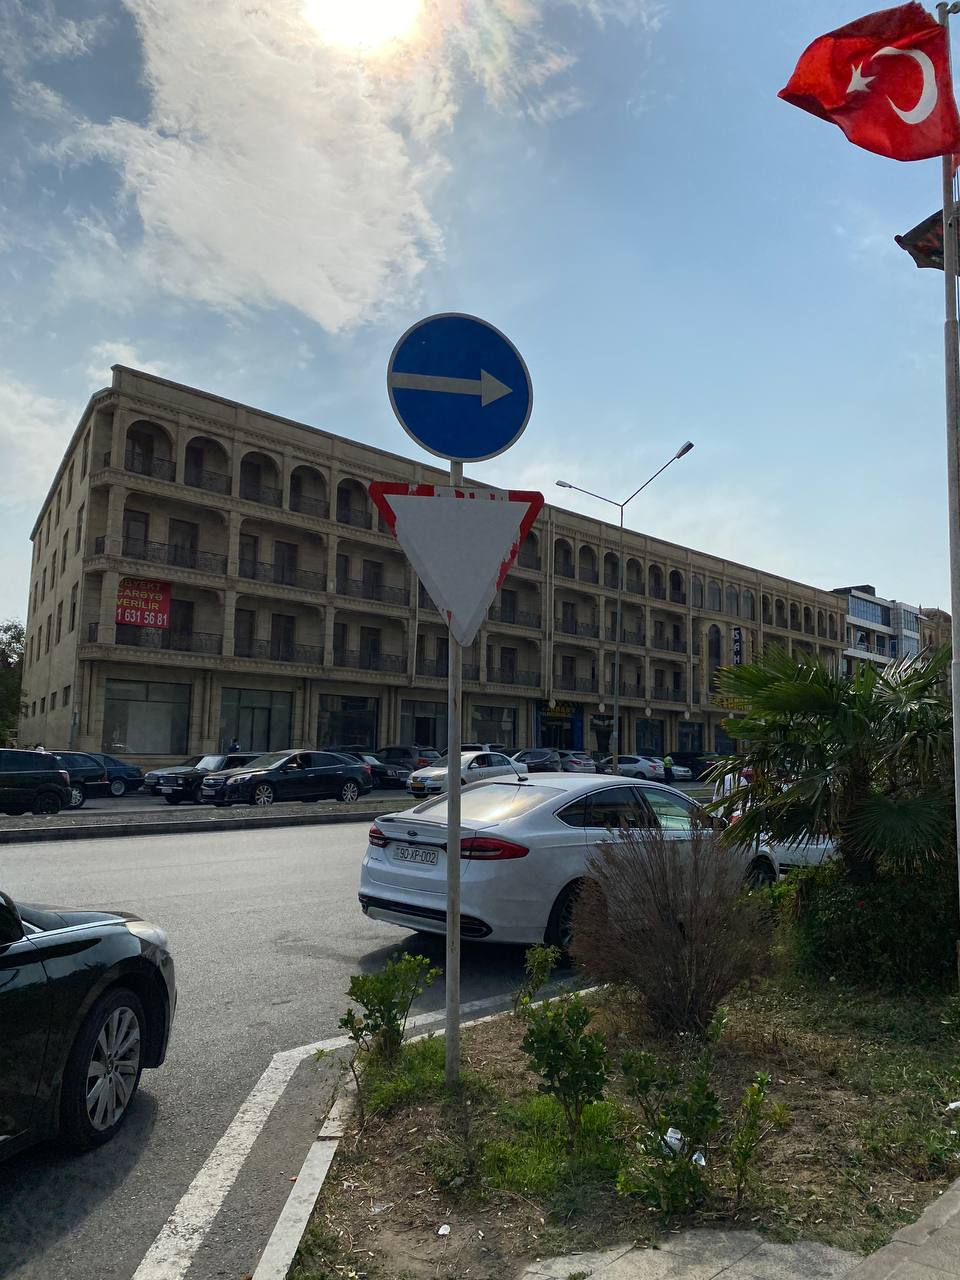Turn Right: (387, 312, 533, 463)
